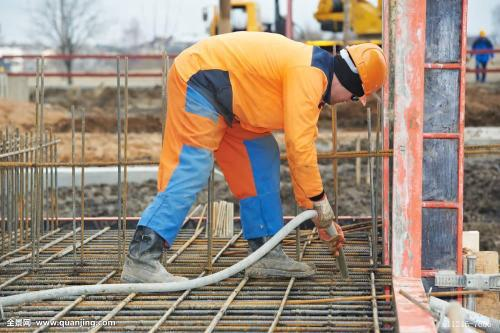helmet: (322, 39, 397, 107)
